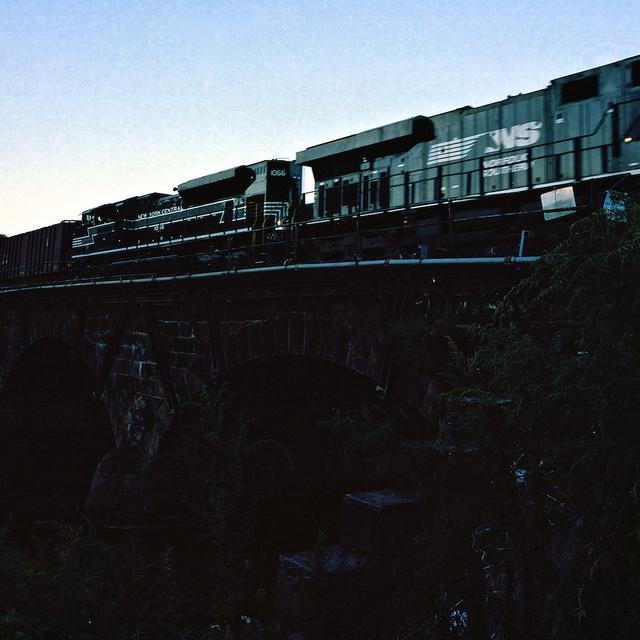Train: (2, 52, 640, 281)
